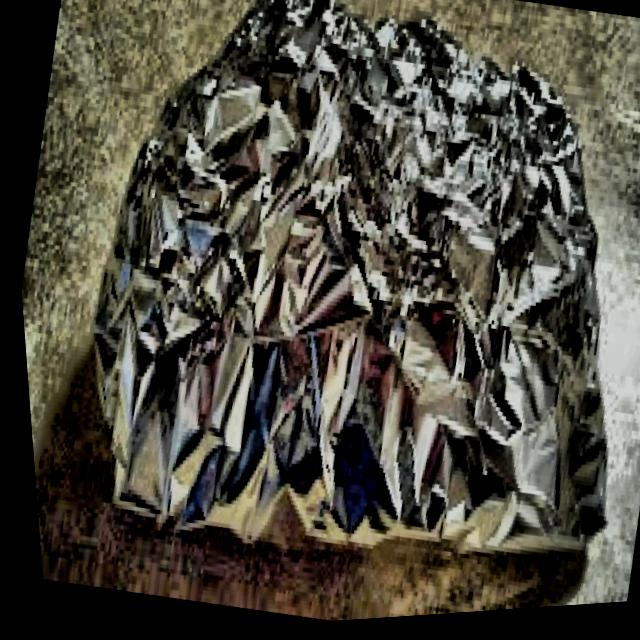Foil: (21, 0, 640, 639)
